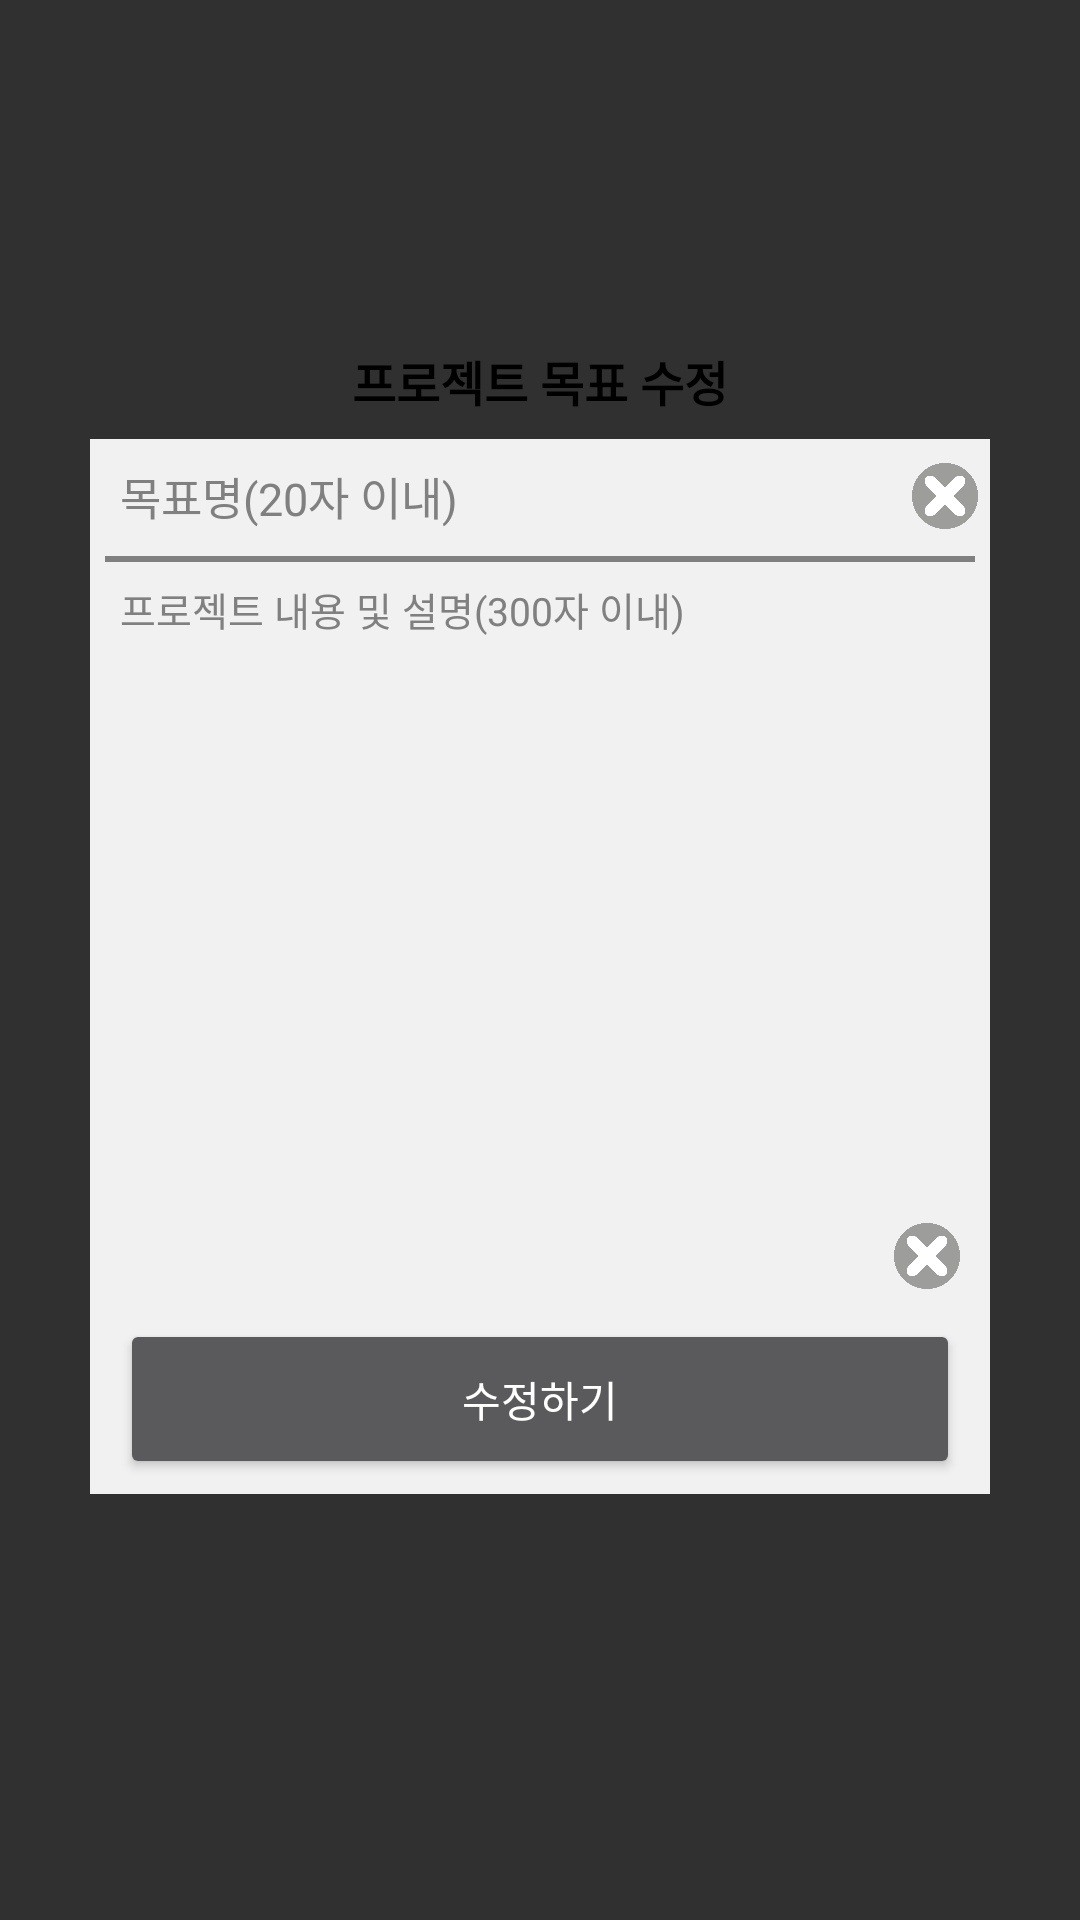

Named icons in this screenshot (1080×1920) and their bounding boxes, bbox=(x1, y1, x2, y2):
all del: bbox=(912, 463, 978, 529), bbox=(894, 1223, 960, 1289)
